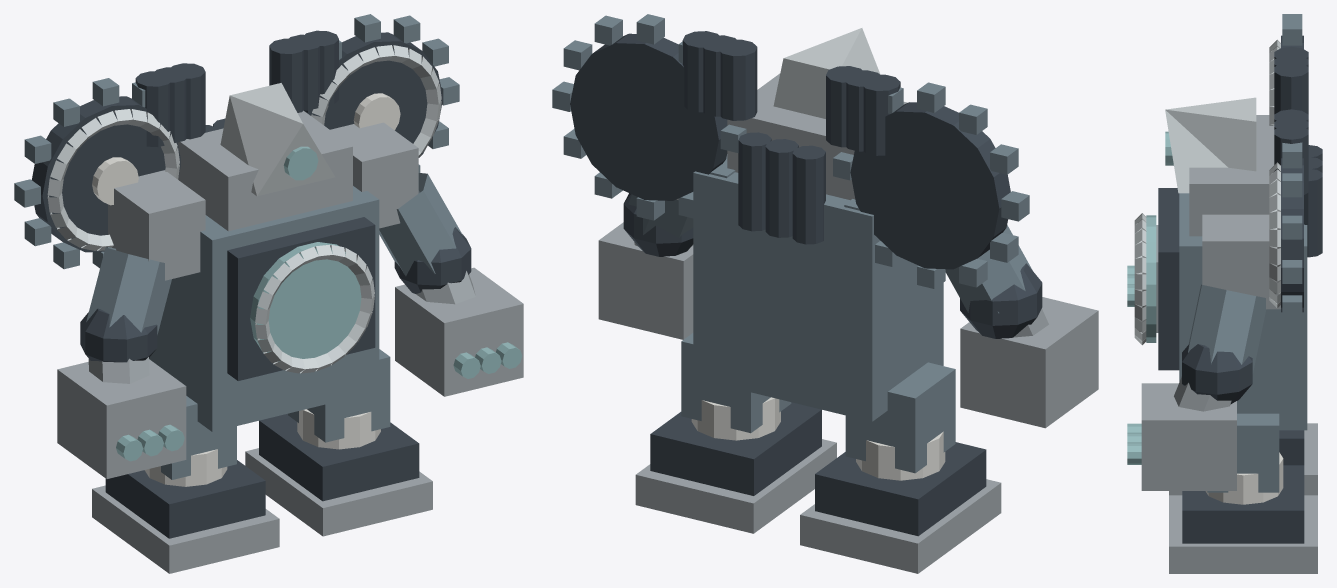
The model's file is Foundry_Tyrant.obj.
3 views of the same model, side by side, from view 1: azimuth 30°, elevation 25°; view 2: azimuth 150°, elevation 25°; view 3: azimuth 270°, elevation 25° (orthographic). The views are drawn at different scales.
Parts seen in each view (by area): view 1: Foundry_Tyrant; view 2: Foundry_Tyrant; view 3: Foundry_Tyrant.
Boxes of the visible parts, left/top/right/bottom form: Foundry_Tyrant: left=14, top=14, right=523, bottom=573; Foundry_Tyrant: left=552, top=14, right=1098, bottom=573; Foundry_Tyrant: left=1127, top=14, right=1322, bottom=573.
Bounding box in the file's own units: 4.82 × 4.69 × 1.95.
